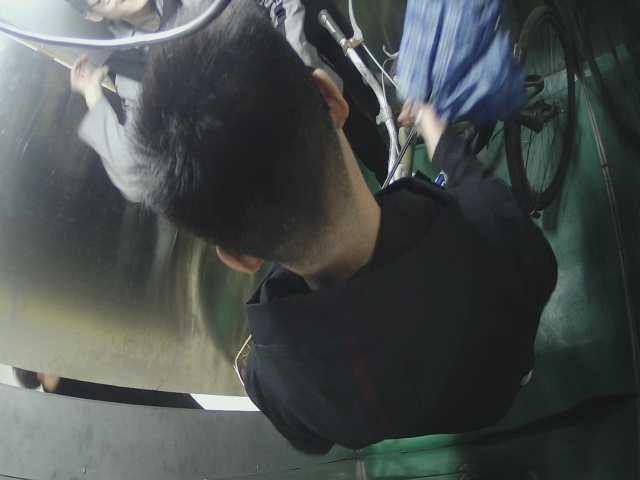bicycle: (308, 7, 604, 203)
person: (109, 5, 539, 421)
